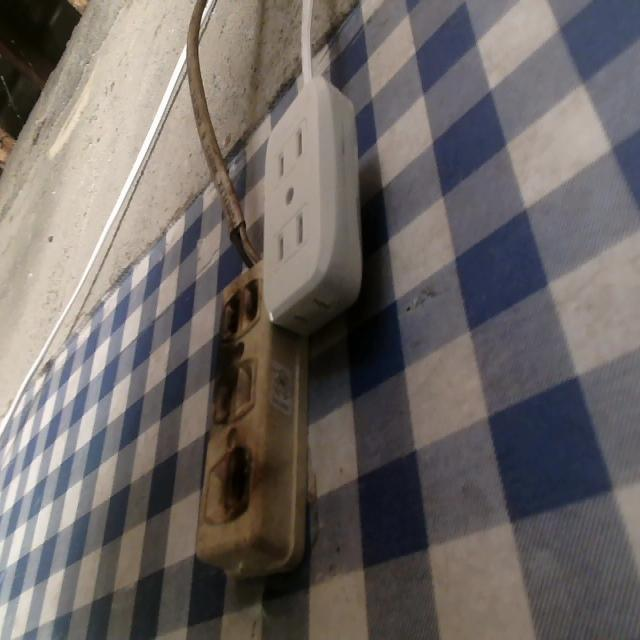-: (221, 438, 267, 526), (216, 272, 263, 339), (199, 360, 242, 431)
